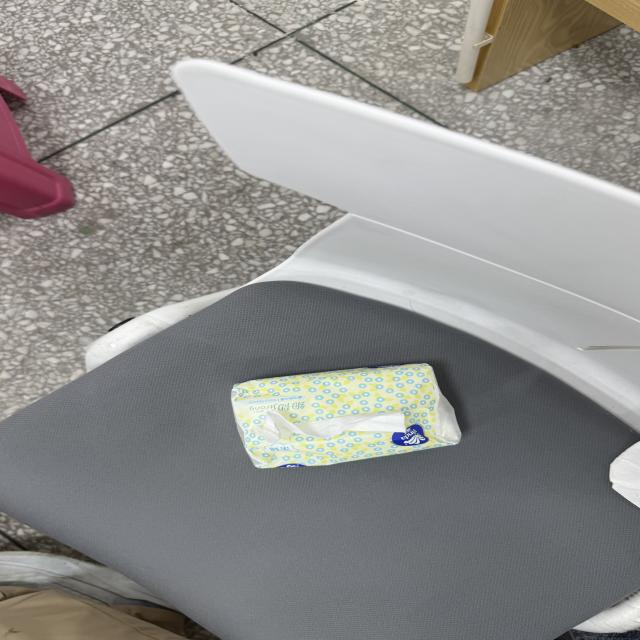tissue: (232, 364, 460, 468), (610, 443, 639, 506)
